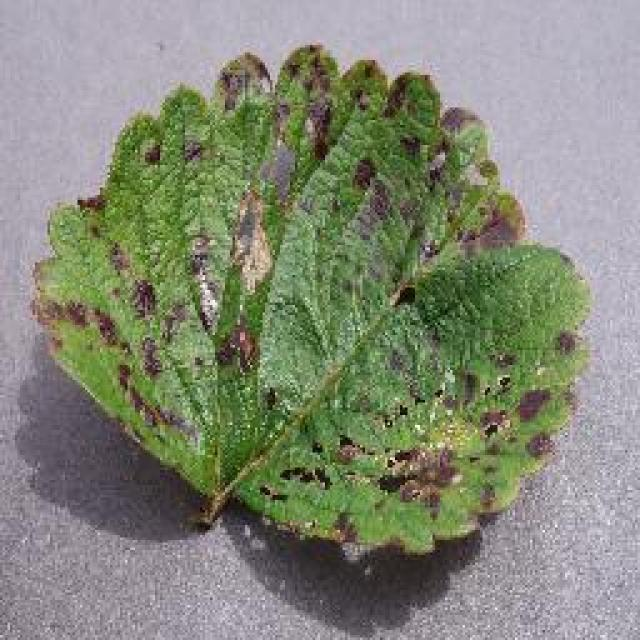Strawberry___Leaf_scorch: (84, 75, 515, 588)
